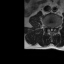CCS_normal: (51, 25, 52, 32)
LFS_severe_stenosis: (54, 24, 56, 30)
LLS_severe_stenosis: (52, 25, 54, 29)
RFS_severe_stenosis: (47, 24, 49, 30)
RLS_severe_stenosis: (49, 25, 51, 30)
